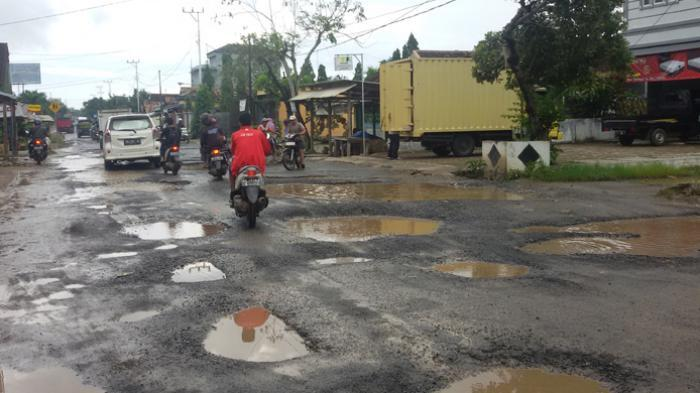Pothole: (240, 151, 526, 222), (48, 170, 229, 272), (403, 334, 700, 393), (517, 217, 700, 282), (198, 303, 324, 375), (264, 205, 474, 247), (1, 340, 129, 393), (433, 247, 551, 296), (16, 264, 101, 329), (156, 247, 240, 304), (94, 297, 193, 341)
